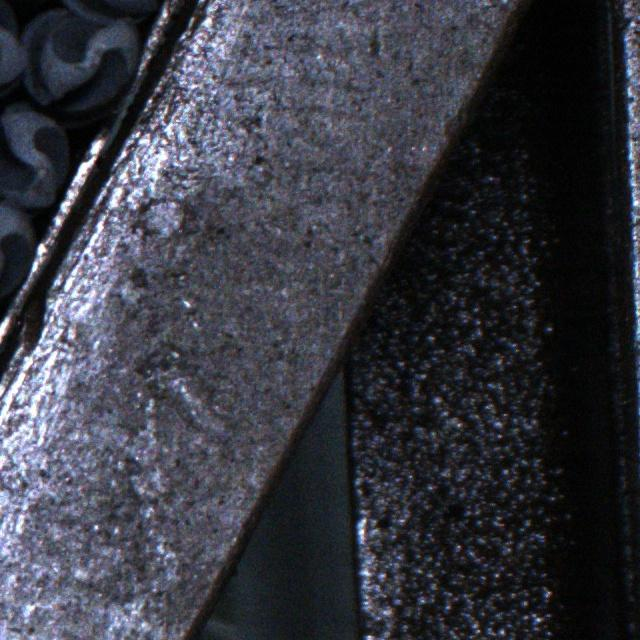tool_b: (17, 9, 138, 128), (0, 100, 68, 208), (0, 198, 36, 301), (0, 0, 25, 114), (59, 0, 164, 21)
